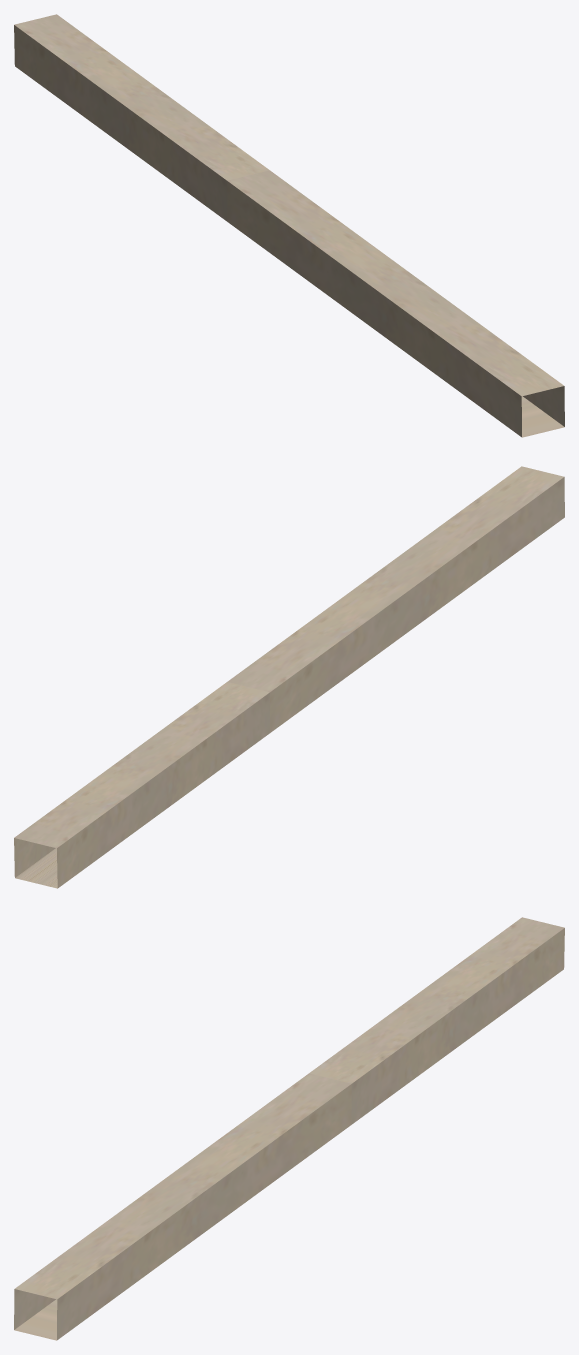
File: cs_lobbynew02_Terrains_02_ltbian.FBX
The picture shows the model from 3 angles, top to bottom: view 1: azimuth 30°, elevation 25°; view 2: azimuth 150°, elevation 25°; view 3: azimuth 330°, elevation 25°; orthographic projection.
Parts seen in each view (by area): view 1: cs_lobbynew02_Terrains_02_ltbian; view 2: cs_lobbynew02_Terrains_02_ltbian; view 3: cs_lobbynew02_Terrains_02_ltbian.
Boxes of the visible parts, bbox=[...] form: cs_lobbynew02_Terrains_02_ltbian: bbox=[14, 14, 564, 437]; cs_lobbynew02_Terrains_02_ltbian: bbox=[14, 466, 564, 888]; cs_lobbynew02_Terrains_02_ltbian: bbox=[14, 917, 564, 1340].
Size of the model in its own units: 22.83 by 20.89 by 469.
